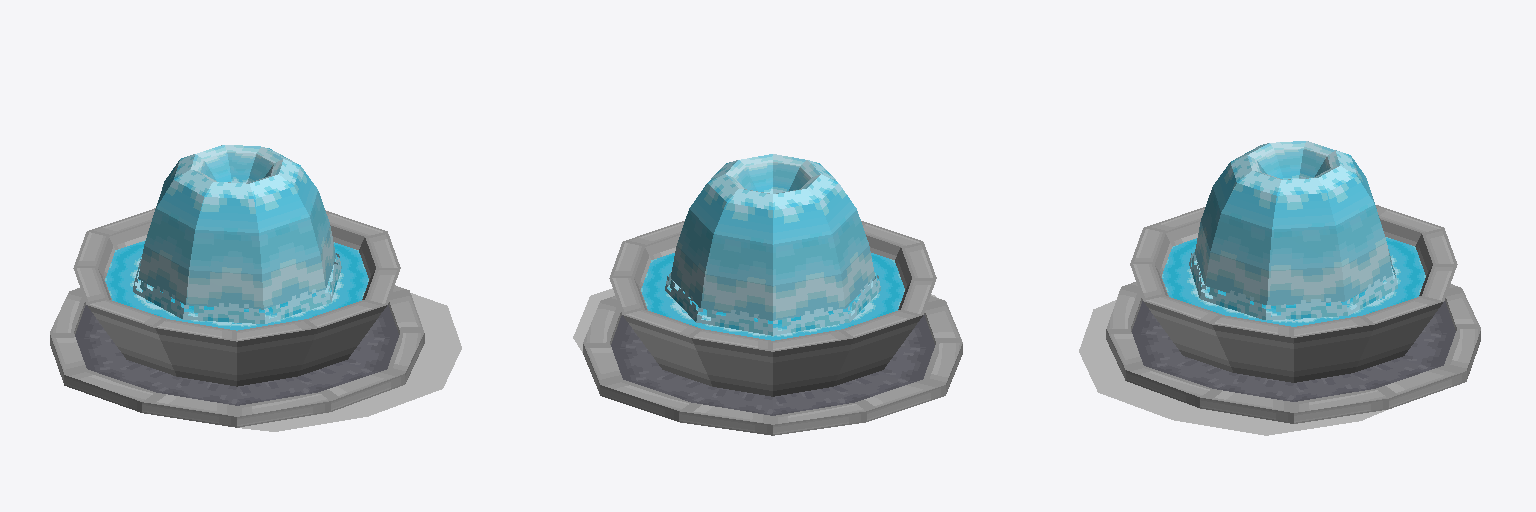
The picture shows the model from 3 angles: view 1: azimuth 30°, elevation 25°; view 2: azimuth 150°, elevation 25°; view 3: azimuth 270°, elevation 25°; orthographic projection.
Visible parts, largest first — view 1: polygon5, polygon2, polygon0, polygon3, polygon6, polygon1, polygon4; view 2: polygon5, polygon2, polygon0, polygon3, polygon1, polygon4, polygon6; view 3: polygon5, polygon2, polygon0, polygon3, polygon6, polygon1, polygon4.
Part boxes in pixels (x1,y1,x2,y2): polygon5: (138, 145, 335, 309); polygon2: (50, 208, 424, 427); polygon0: (87, 305, 386, 386); polygon3: (75, 305, 398, 405); polygon6: (240, 293, 461, 431); polygon1: (105, 240, 368, 330); polygon4: (133, 253, 341, 323); polygon5: (671, 154, 874, 320); polygon2: (583, 221, 962, 435); polygon0: (623, 315, 922, 396); polygon3: (611, 315, 934, 415); polygon1: (641, 253, 904, 340); polygon4: (665, 273, 880, 335); polygon6: (573, 288, 936, 352); polygon5: (1195, 141, 1392, 305); polygon2: (1106, 205, 1480, 423); polygon0: (1143, 301, 1442, 382); polygon3: (1132, 301, 1455, 401); polygon6: (1079, 300, 1388, 435); polygon1: (1162, 237, 1425, 326); polygon4: (1189, 249, 1397, 320).
Size of the model in its own units: 7.71 by 3.58 by 7.28.
Materials: 7 (6 with a texture image).